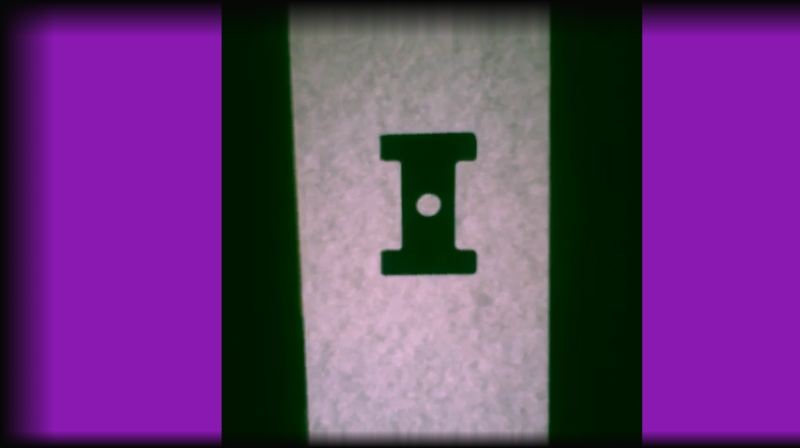O002: (376, 127, 480, 279)
